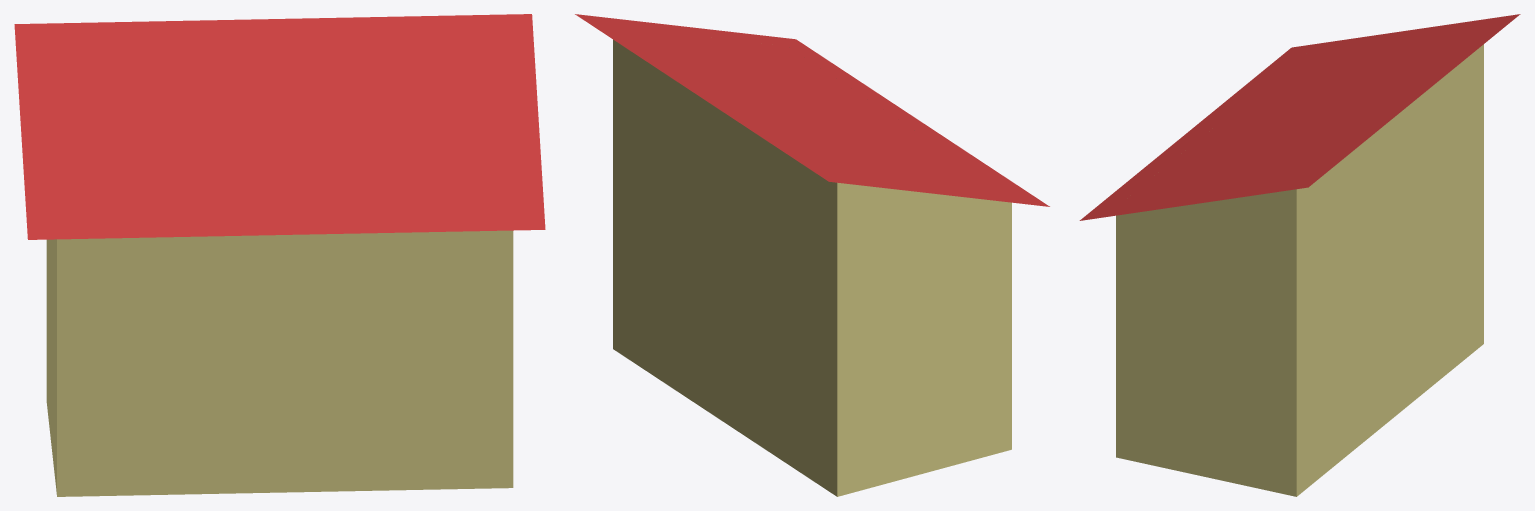
3 views of the same model, side by side, from view 1: azimuth 30°, elevation 25°; view 2: azimuth 150°, elevation 25°; view 3: azimuth 270°, elevation 25° (orthographic). The views are drawn at different scales.
Bounding box in the file's own units: 9.68 × 8.08 × 6.56.
